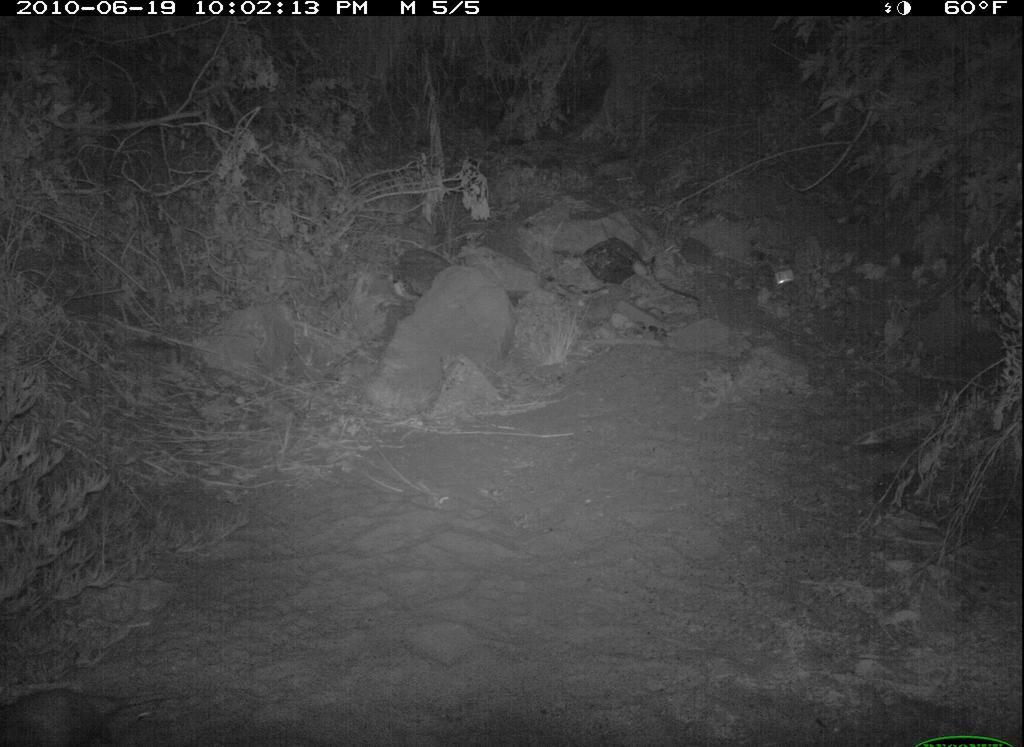opossum: (7, 664, 175, 747)
